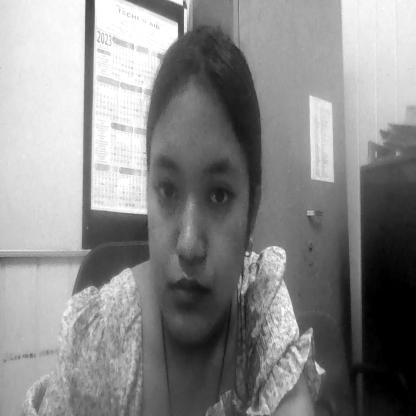Normal: (152, 103, 241, 355)
